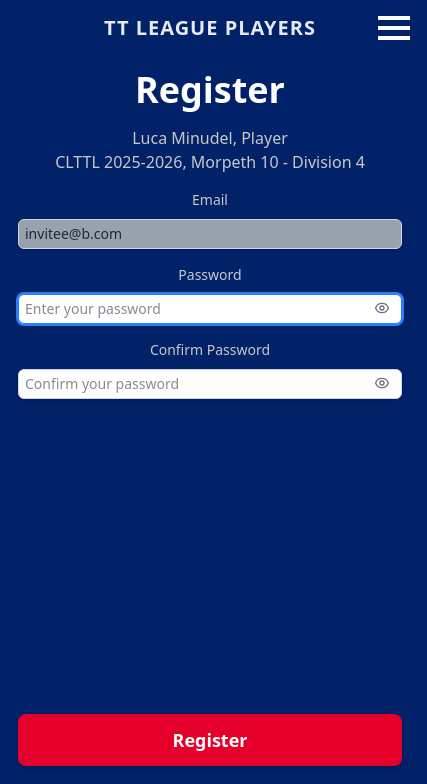
Scenario: Register page › with an invite › accepts the invite after registering, then asks to verify the email
Type "aA1!56789012" into the password field labelled "Password".
click(210, 309); type("aA1!56789012")  # box [18,294,402,324]
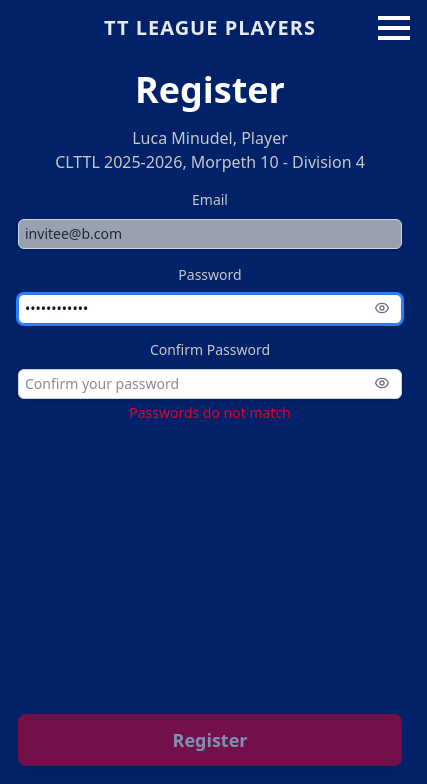
Type "aA1!56789012" into the password field labelled "Confirm Password".
click(210, 384); type("aA1!56789012")  # box [18,369,402,399]
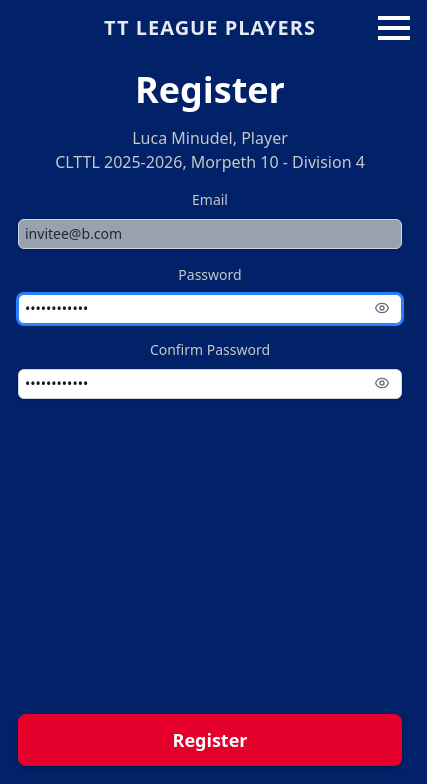
Click the button with test id "register-submit-button".
click(210, 740)  # box [18,714,402,766]
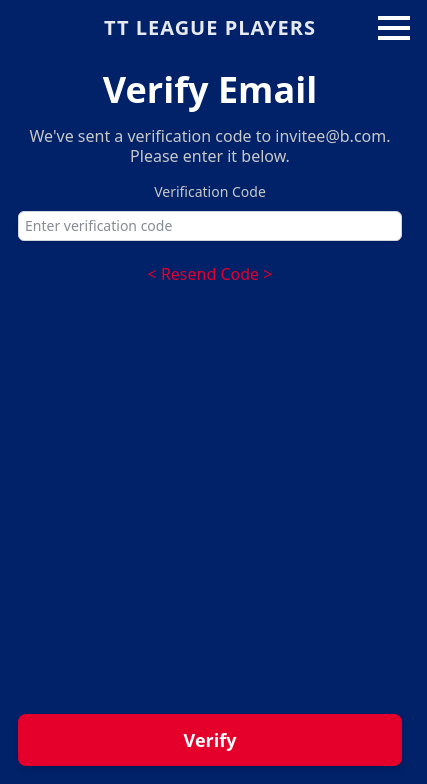
Result: the heading "Verify Email" is shown at [103,65,317,114]
